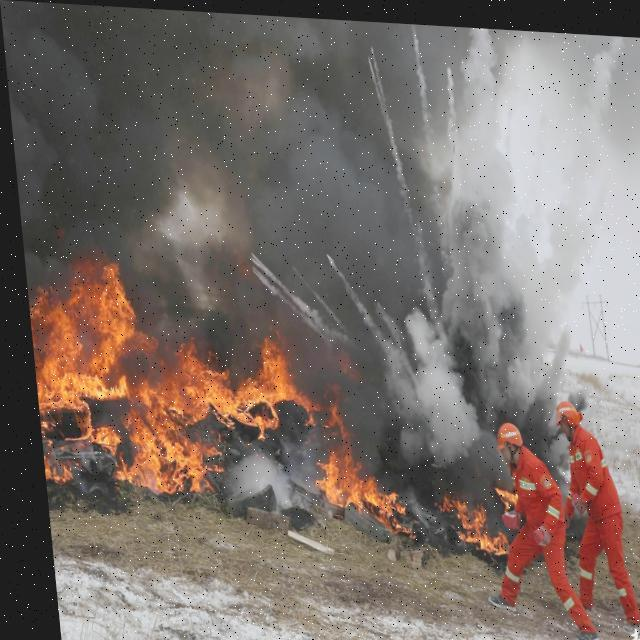Fire: (21, 253, 388, 542), (433, 478, 518, 552)
